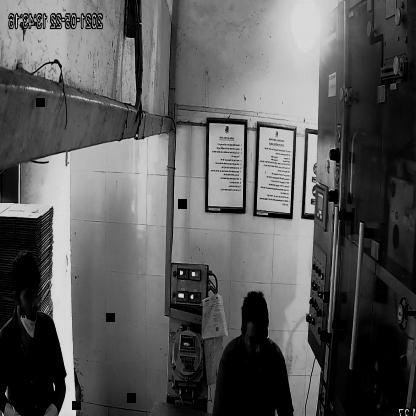goggles: (242, 324, 272, 350)
no_goggles: (17, 283, 41, 306)
